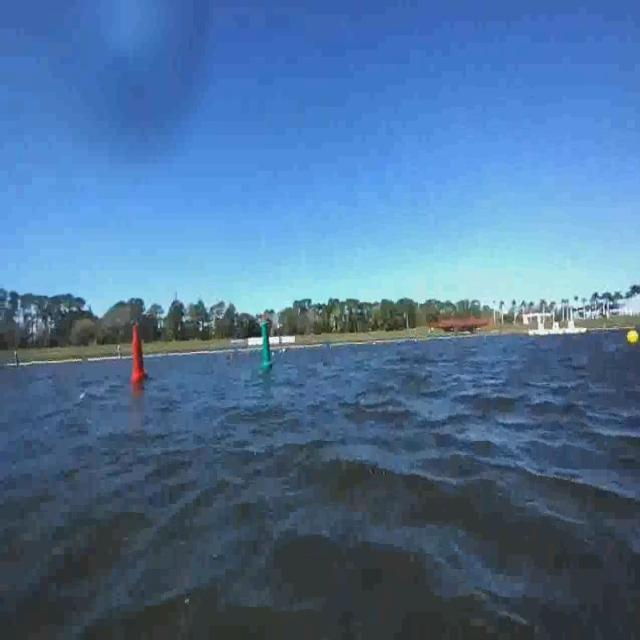green-column-buoy: (262, 322, 276, 371)
red-column-buoy: (130, 324, 148, 382)
yellow-buoy: (626, 329, 639, 347)
